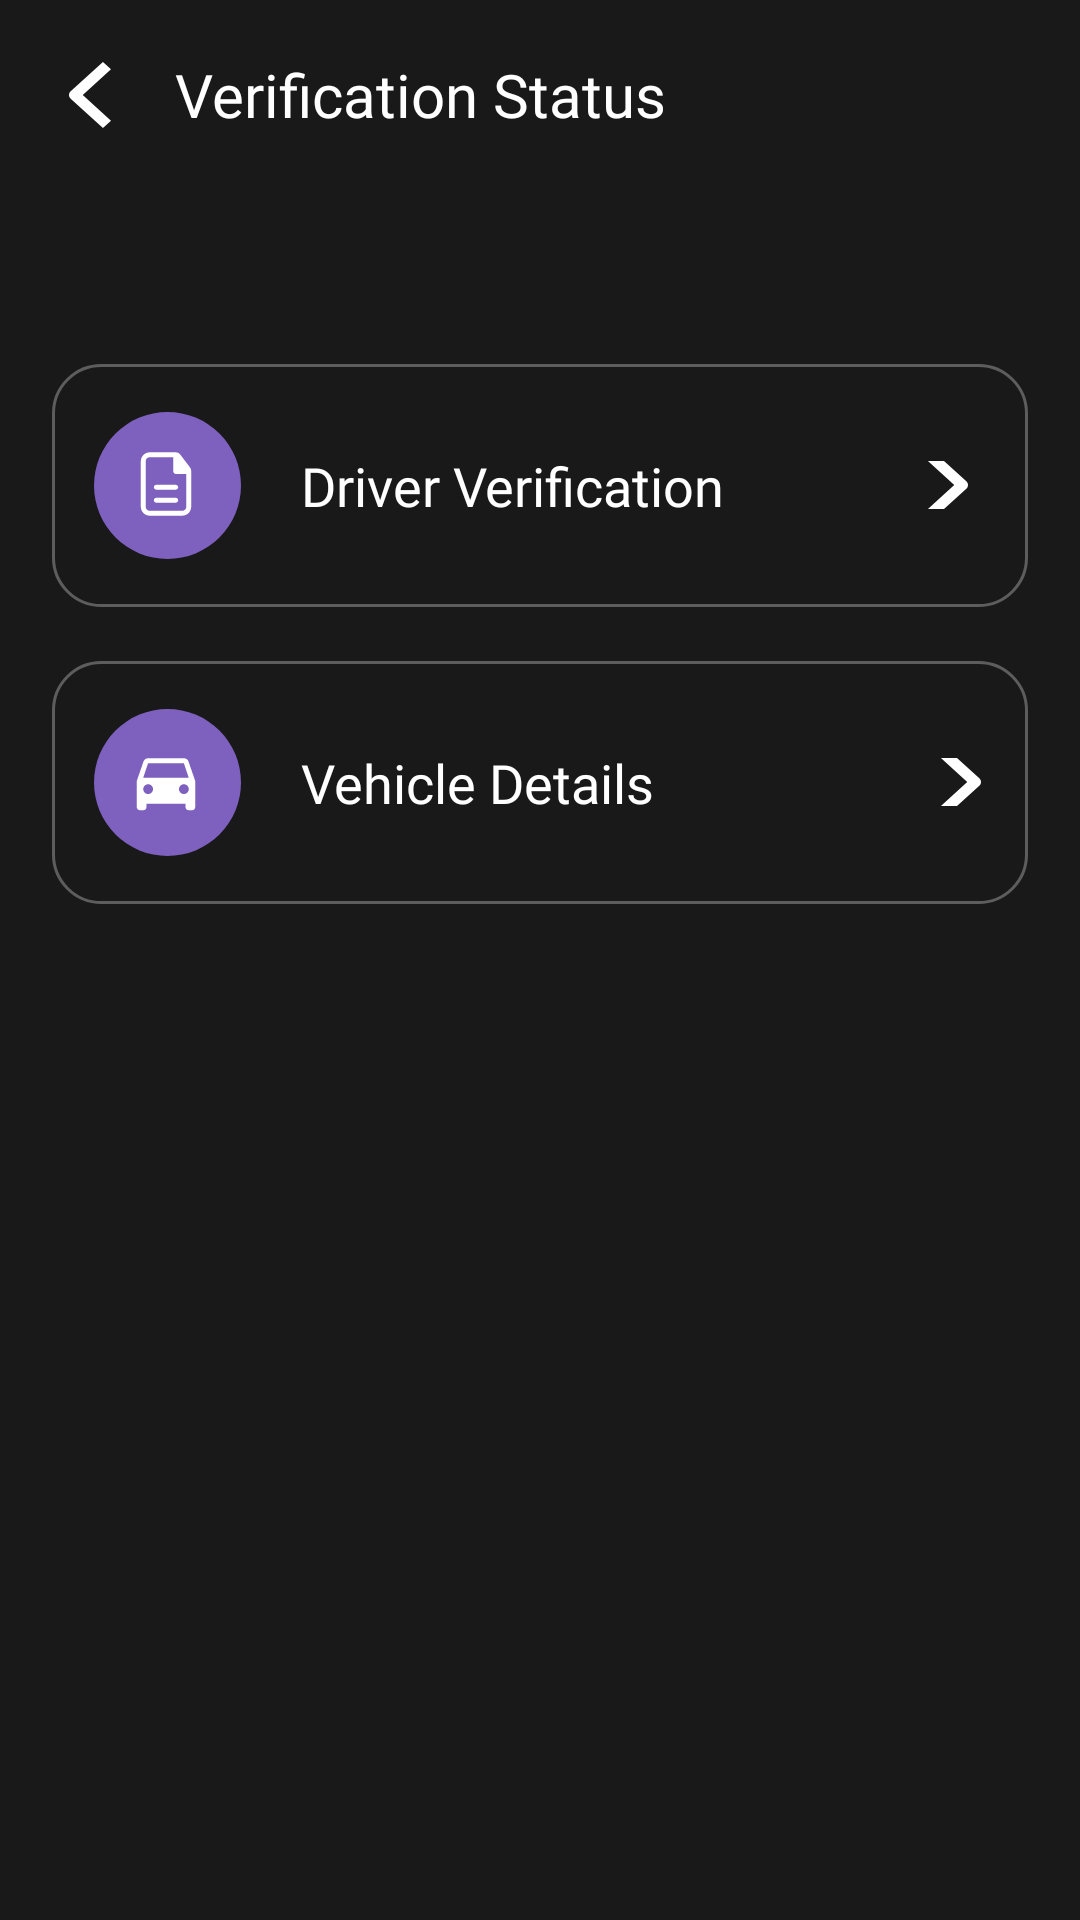

Where icons sit on this 1080px×1920px app screen, as [x1=x1, y1=y1, x2=x2, y2=y2]:
Back button: [x1=69, y1=62, x2=111, y2=128]
